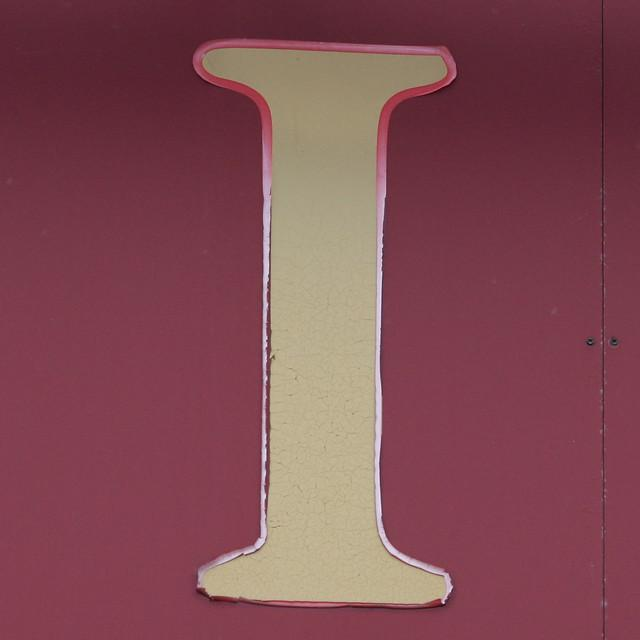I: (131, 10, 484, 625)
